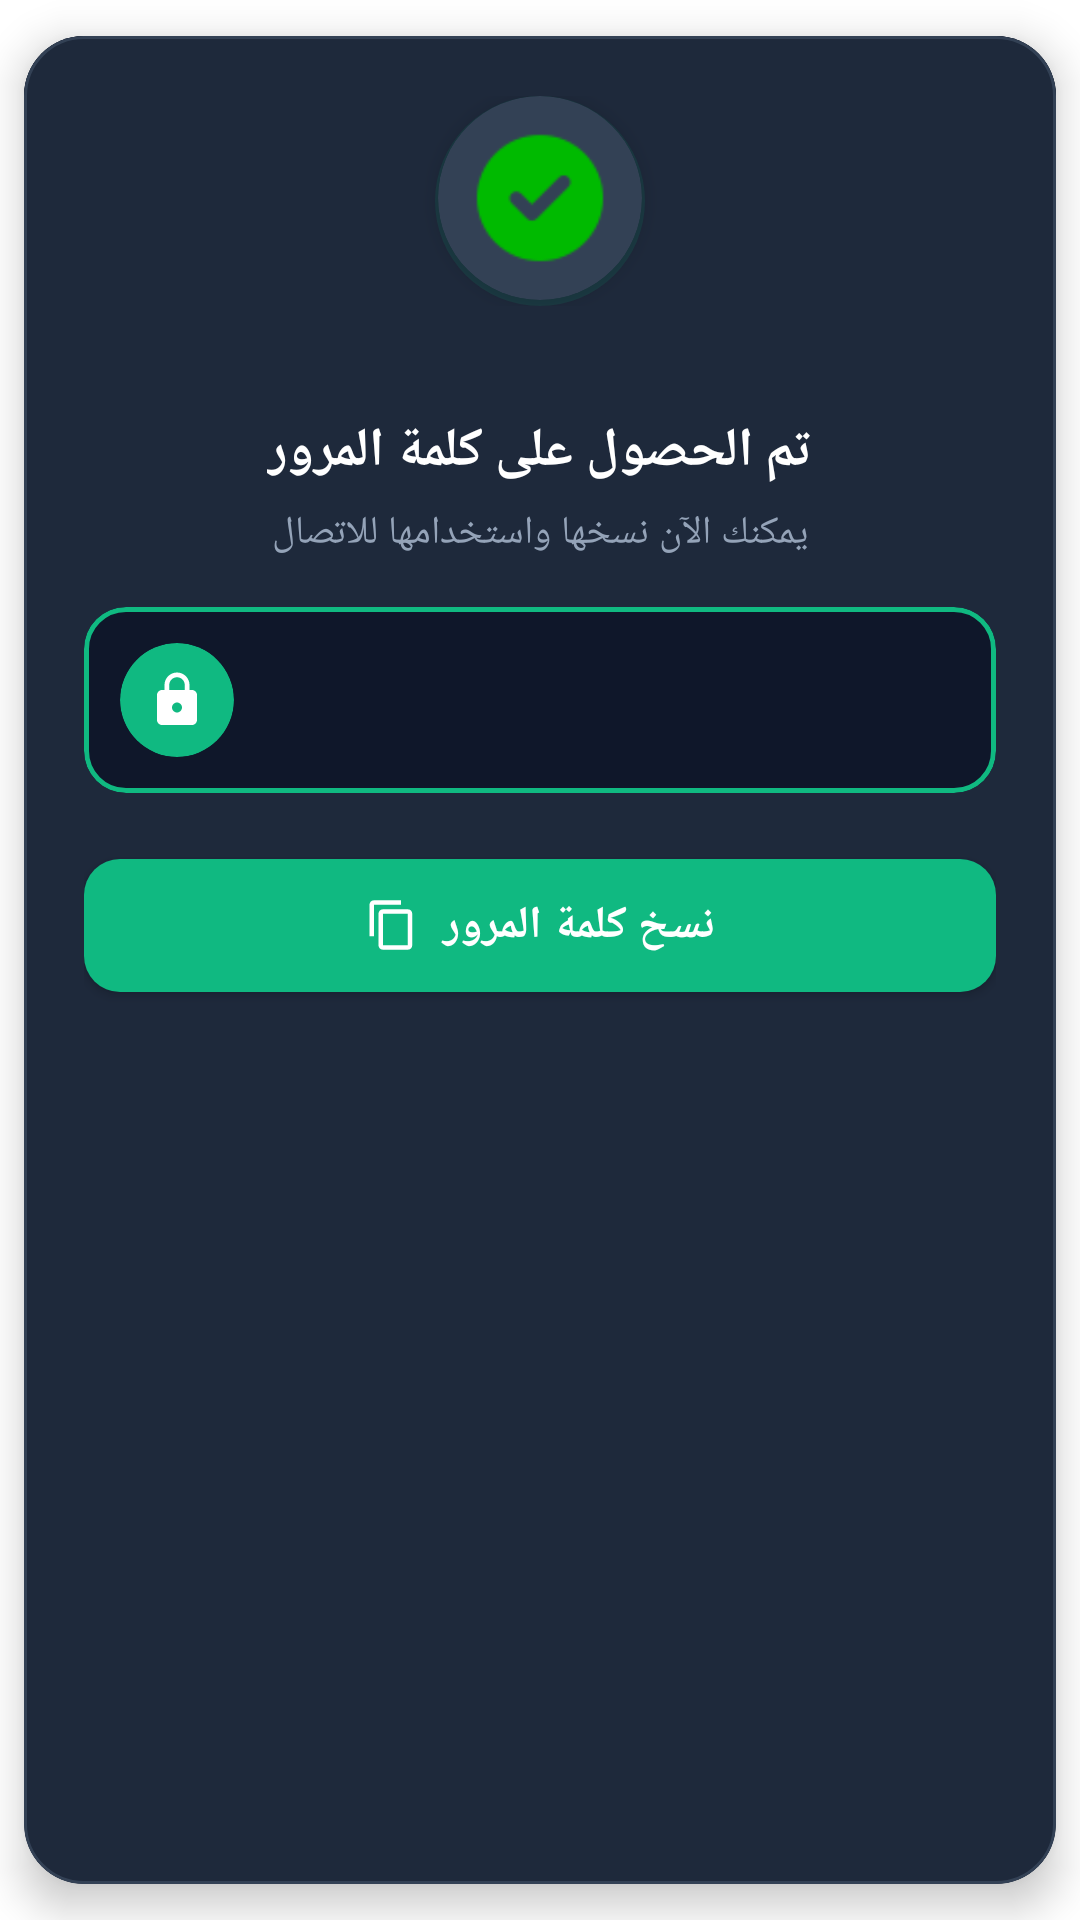

Screen size 1080×1920. Icon name, then its box in pixels as [left=x1, top=y1, right=x2, bottom=y2]:
lock: [left=157, top=672, right=197, bottom=725]
success: [left=476, top=134, right=604, bottom=262]
